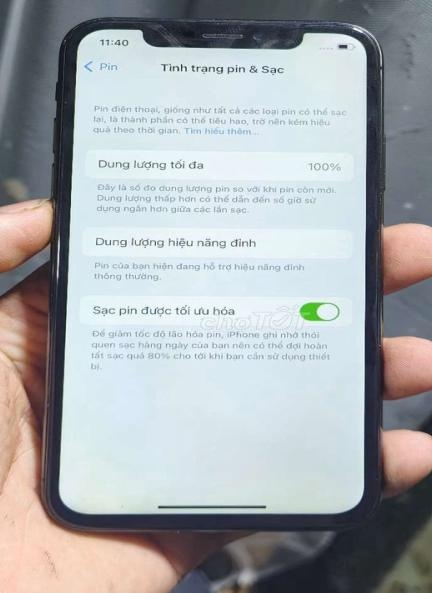scratch: (368, 71, 398, 266), (185, 10, 364, 31), (82, 8, 140, 32), (52, 28, 88, 53), (58, 91, 77, 110)
